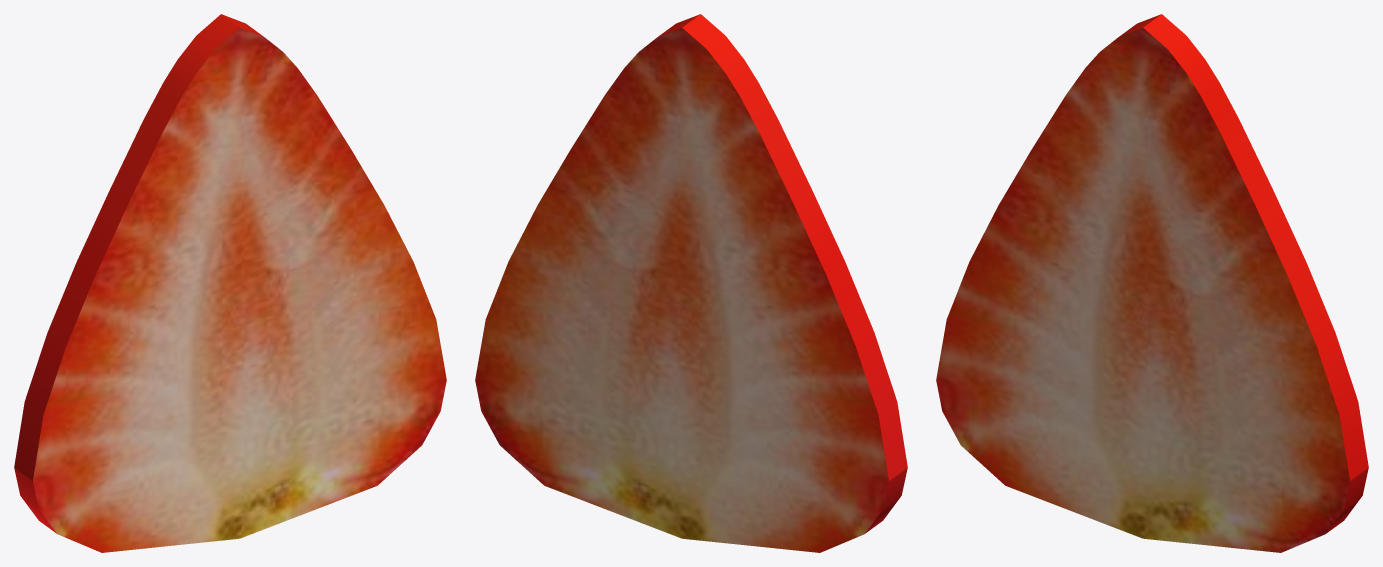
Rendered from strawberryslice.fbx.
3 views of the same model, side by side, from view 1: azimuth 30°, elevation 25°; view 2: azimuth 150°, elevation 25°; view 3: azimuth 330°, elevation 25° (orthographic).
Parts seen in each view (by area): view 1: Strawberry_Slice; view 2: Strawberry_Slice; view 3: Strawberry_Slice.
Part boxes in pixels (x1,y1,x2,y2): Strawberry_Slice: [14, 14, 446, 552]; Strawberry_Slice: [475, 14, 907, 552]; Strawberry_Slice: [936, 14, 1368, 552].
Size of the model in its own units: 0.1907 by 0.225 by 0.0149.
1 material, 1 textured.
